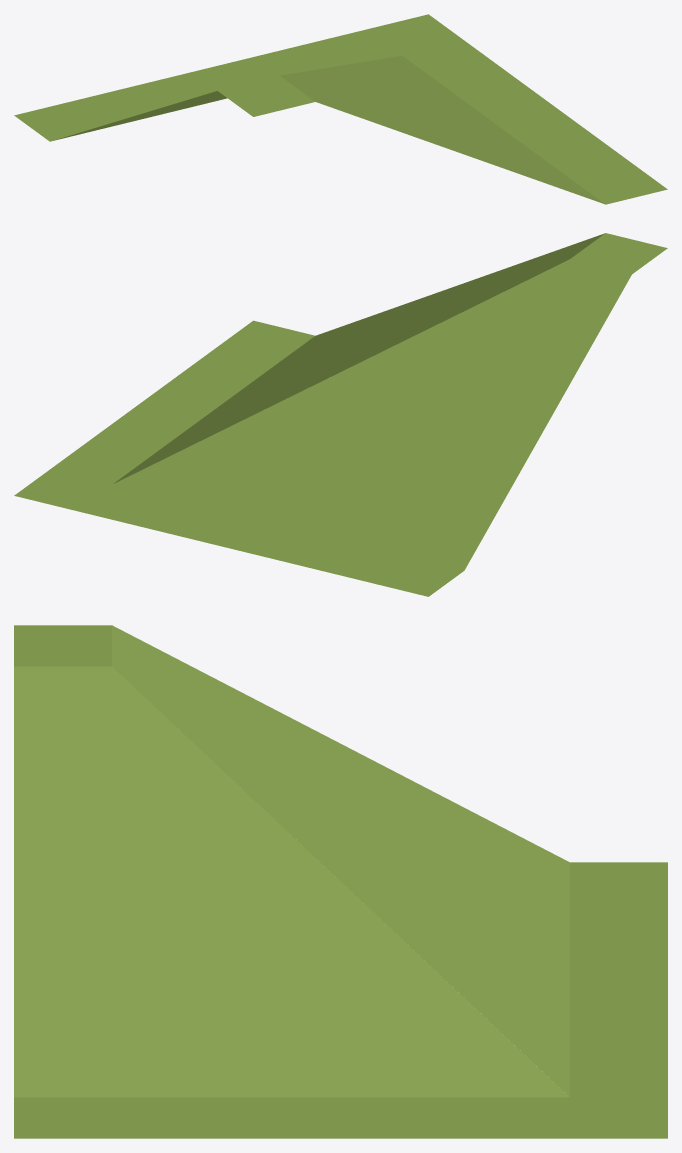
The model's file is grass-tile_06.fbx.
3 renders of one model, top to bottom at view 1: azimuth 30°, elevation 25°; view 2: azimuth 150°, elevation 25°; view 3: azimuth 270°, elevation 25°, orthographic. The views are drawn at different scales.
Visible parts, largest first — view 1: grass_title_06; view 2: grass_title_06; view 3: grass_title_06.
Part boxes in pixels (x1,y1,x2,y2): grass_title_06: (14, 14, 667, 204); grass_title_06: (14, 233, 667, 596); grass_title_06: (14, 625, 667, 1138).
Size of the model in its own units: 1000 by 400 by 1000.
